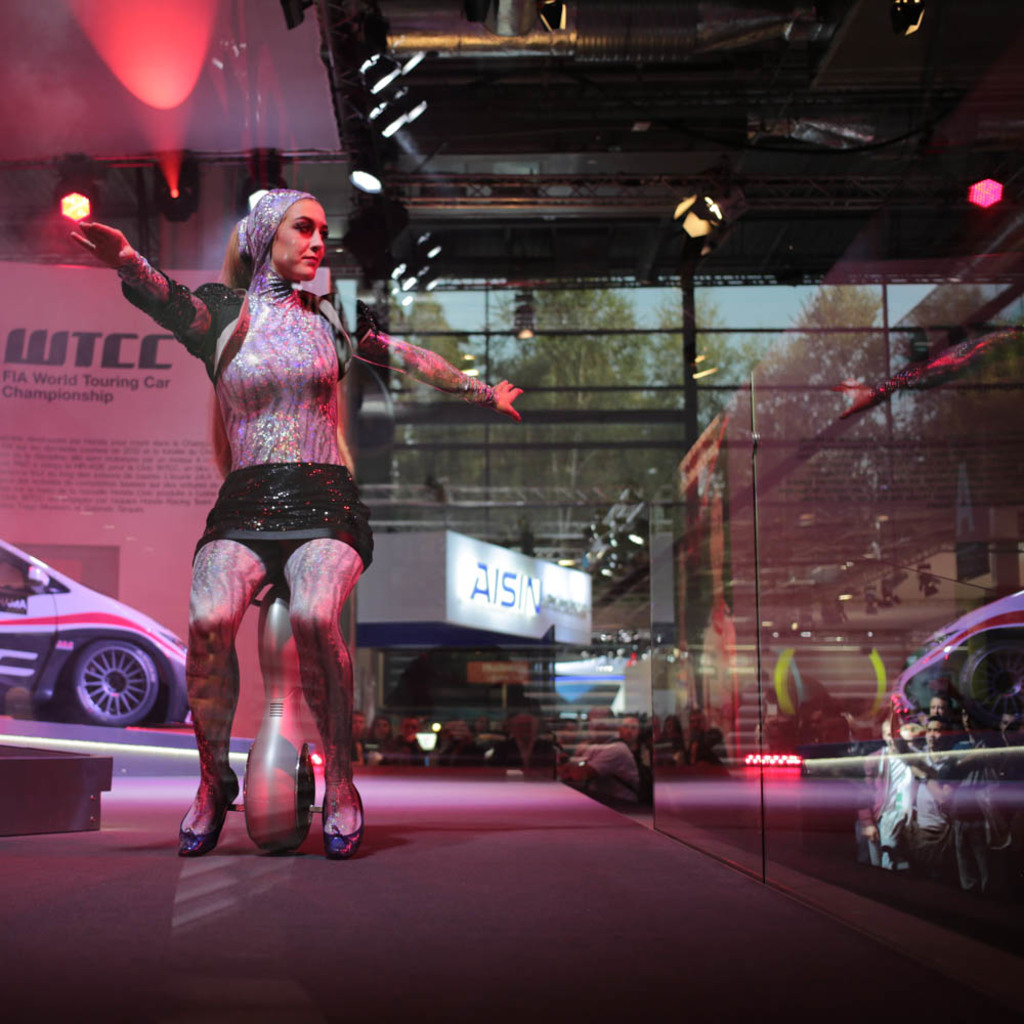cars: (0, 536, 190, 729), (891, 587, 1023, 716)
